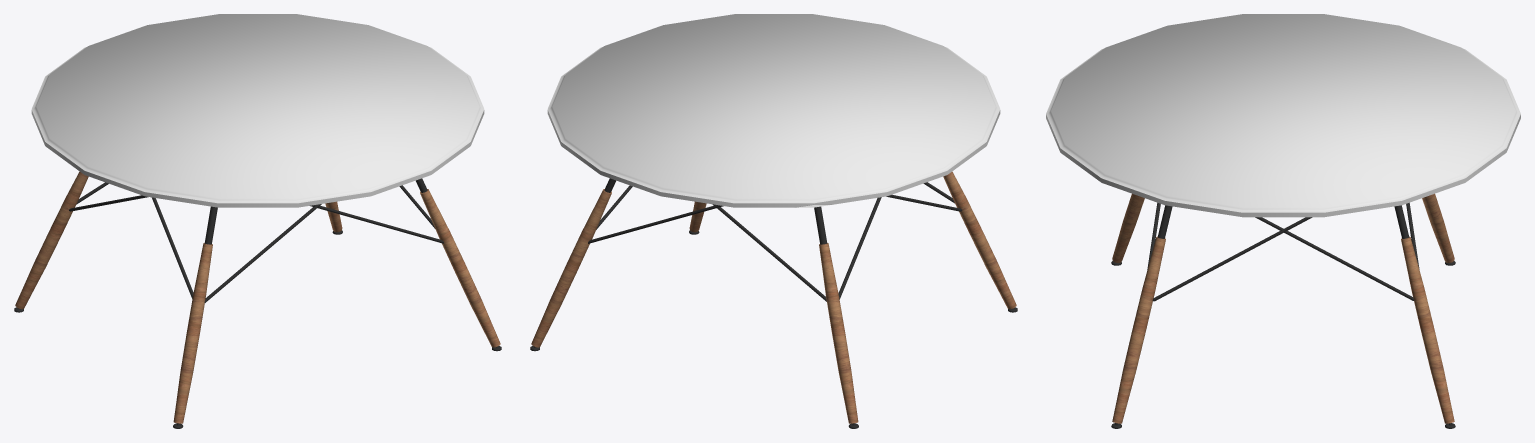
File: Tables_Kitchen_Tables_1.fbx
3 views of the same model, side by side, from view 1: azimuth 30°, elevation 25°; view 2: azimuth 150°, elevation 25°; view 3: azimuth 270°, elevation 25° (orthographic). The views are drawn at different scales.
Parts seen in each view (by area): view 1: Cube.173; view 2: Cube.173; view 3: Cube.173.
Boxes of the visible parts, left/top/right/bottom form: Cube.173: left=14, top=14, right=501, bottom=428; Cube.173: left=530, top=14, right=1017, bottom=428; Cube.173: left=1046, top=14, right=1520, bottom=428.
Bounding box in the file's own units: 145 × 80.29 × 147.
